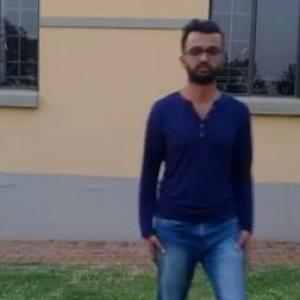follow: (144, 20, 260, 299)
